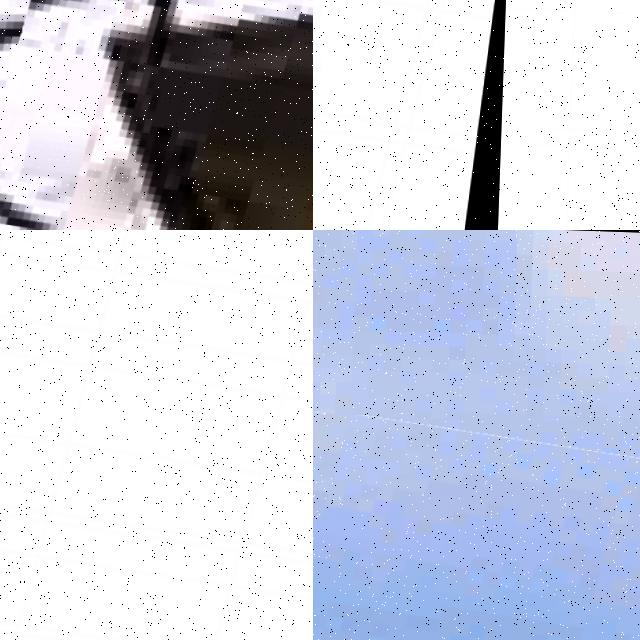0: (0, 0, 313, 230)
drone: (0, 230, 313, 640), (313, 407, 640, 640), (313, 0, 509, 230)
